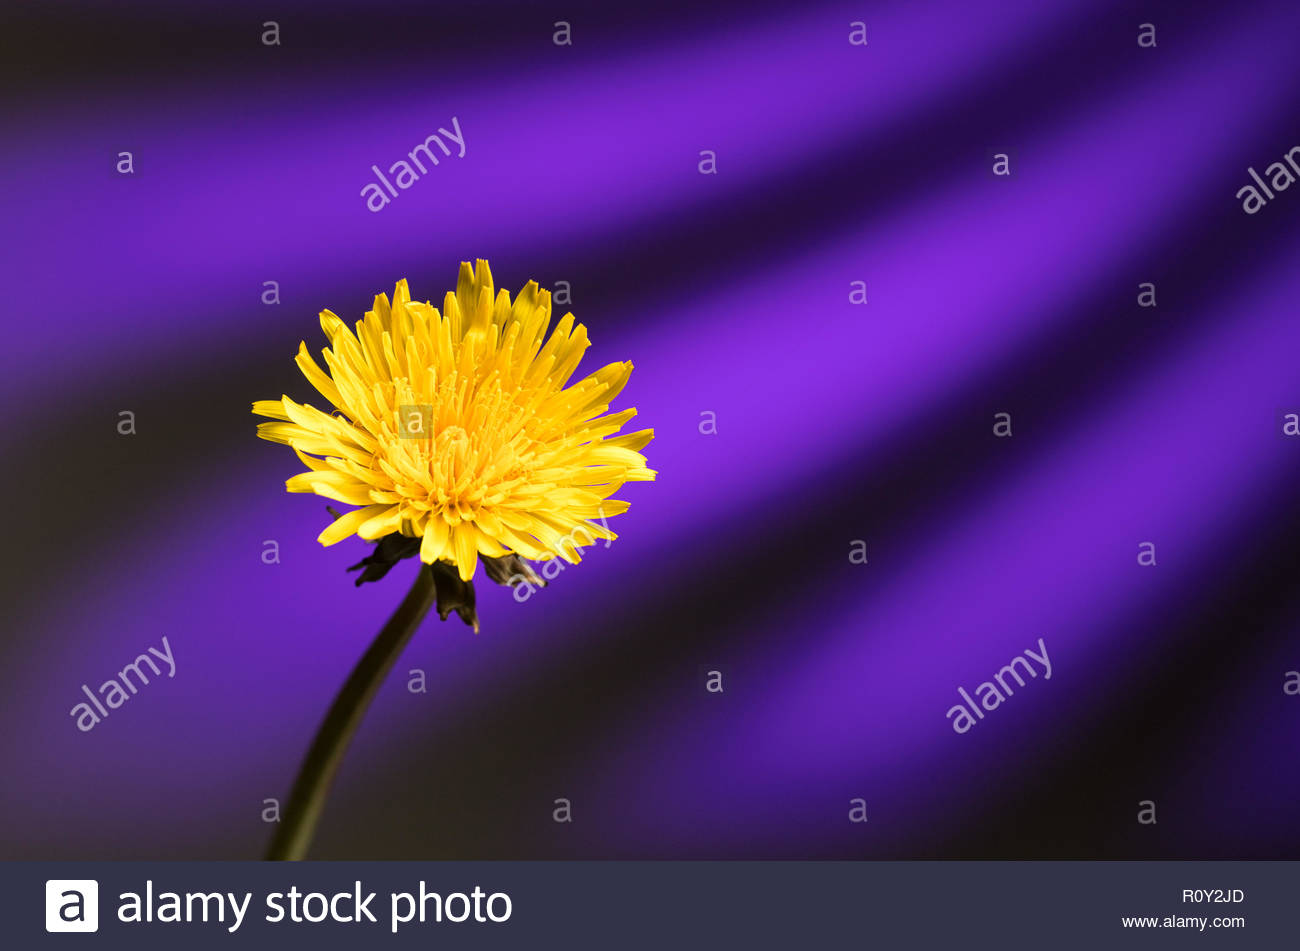dandelion: (285, 313, 639, 566)
